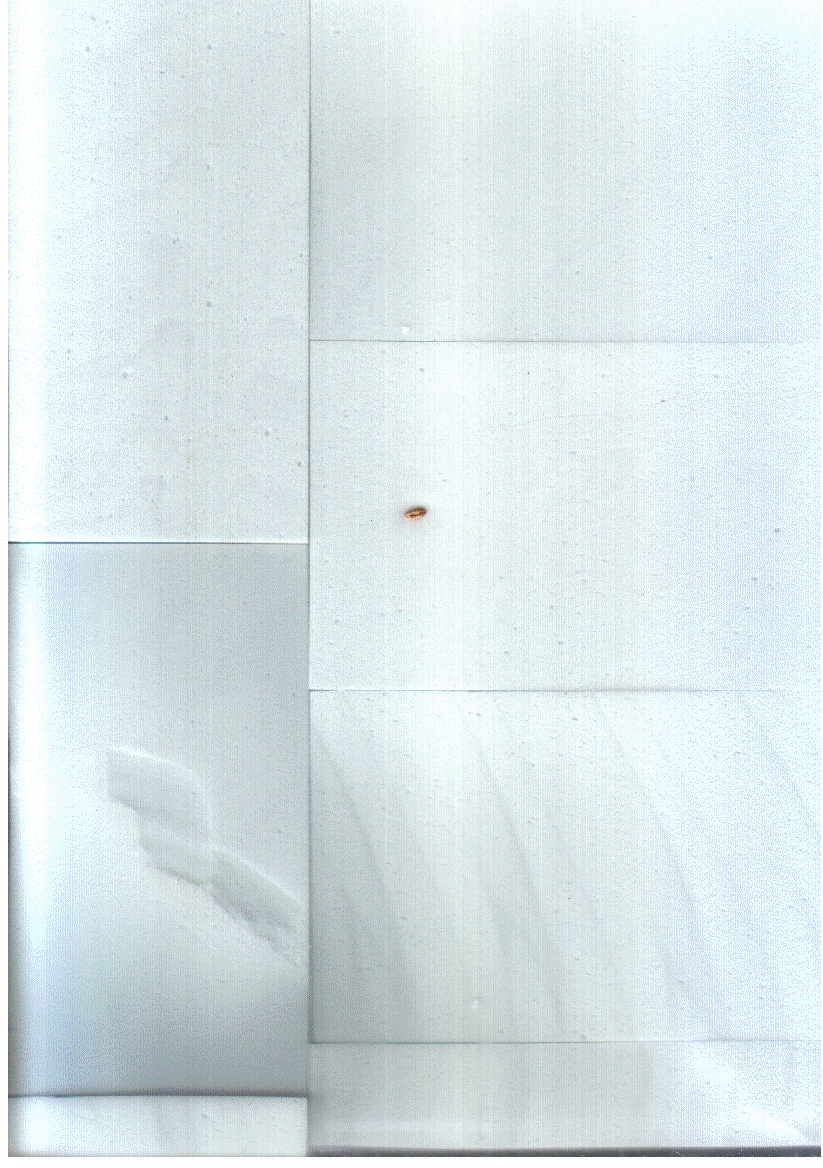grains: (398, 486, 437, 540)
